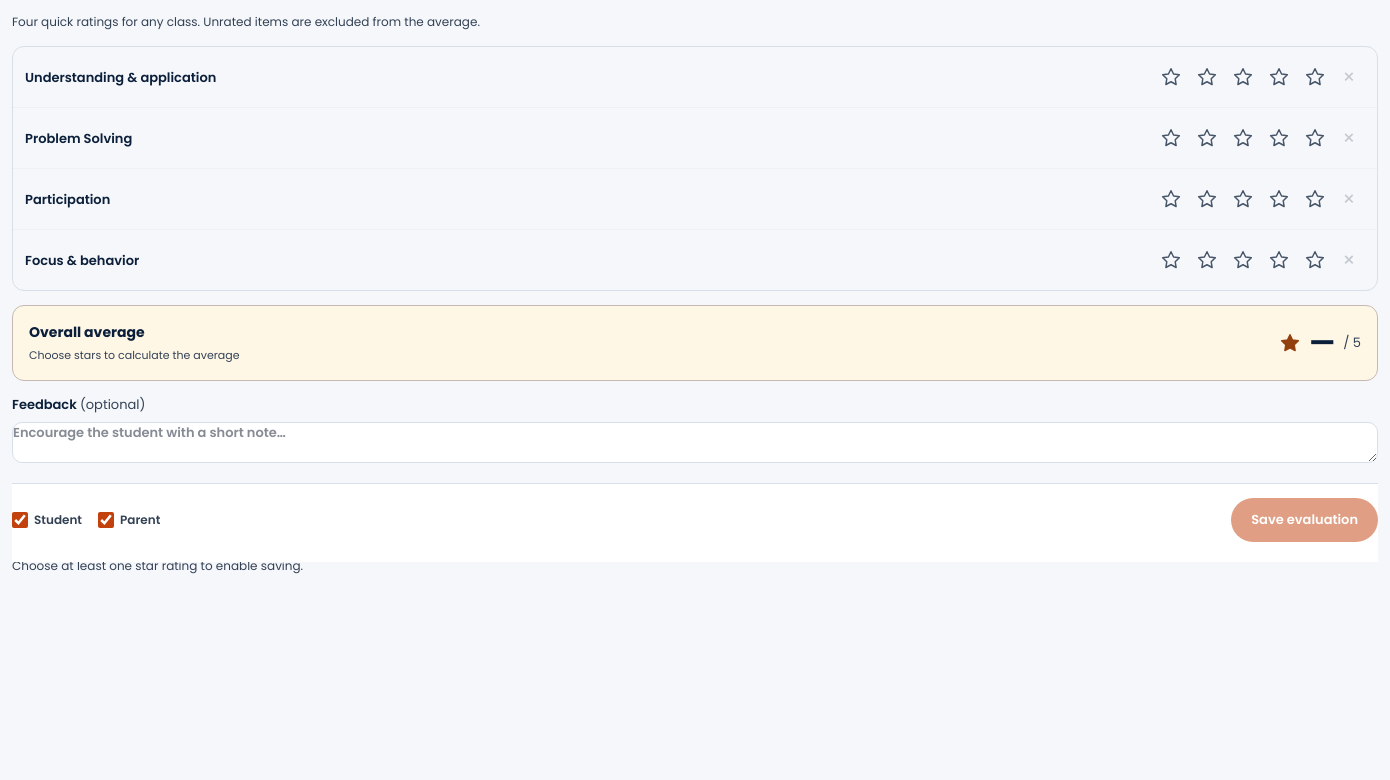
Test case: quick evaluation stars › retains stars and feedback after a save error
Type "Keep building" into the text box labelled "Feedback (optional)" at (695, 443), box [12,422,1378,463]
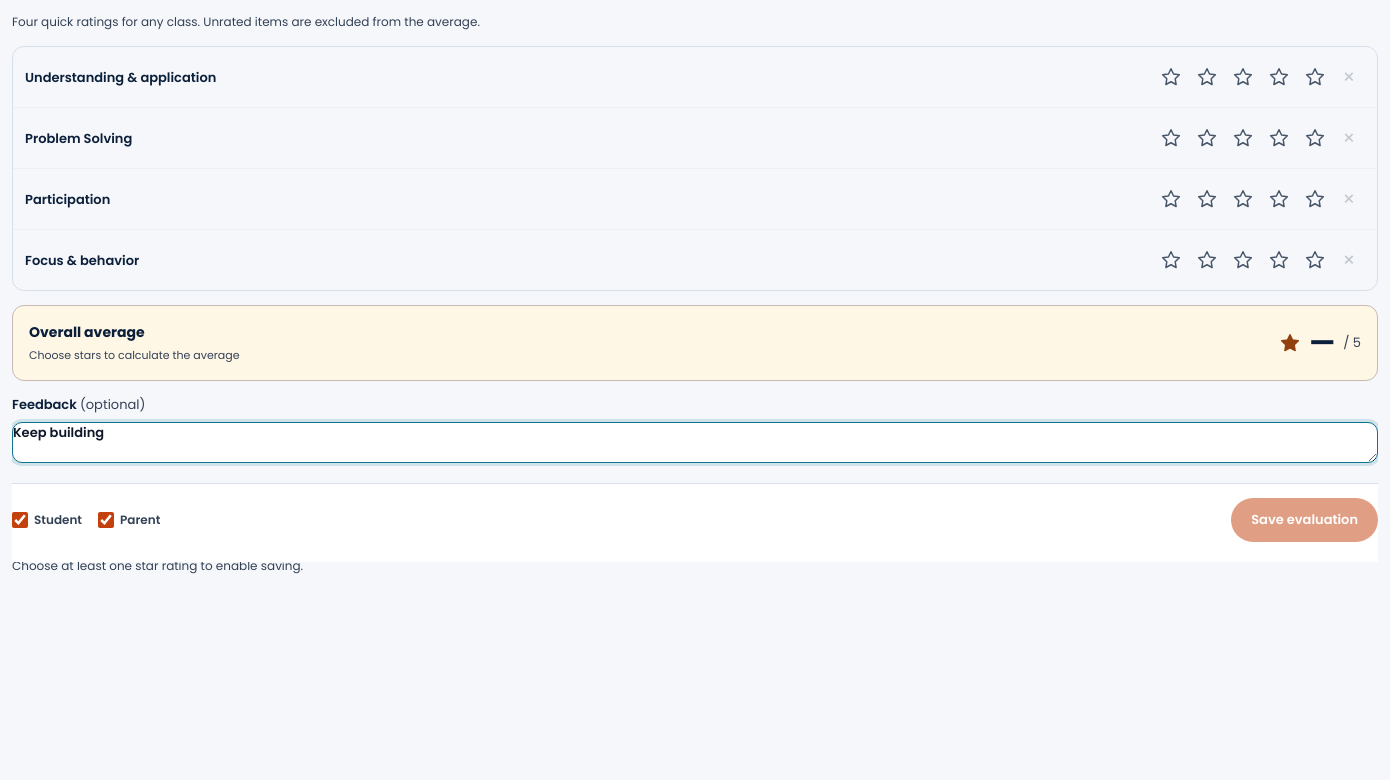
Click the radio button named "Focus & behavior: 5 stars" at (1315, 260), box [1304,249,1326,271]
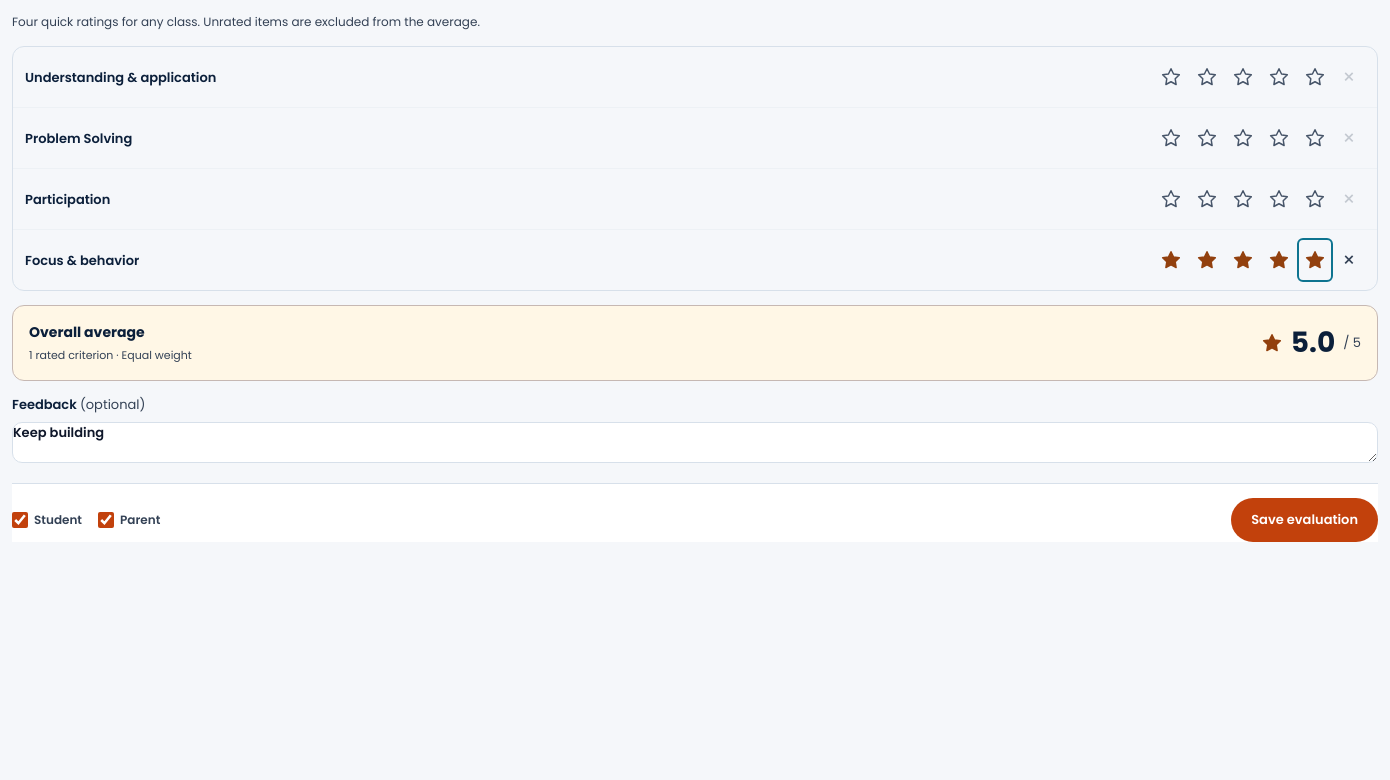
Click the button "Save evaluation" at (1305, 520), box [1231,498,1378,542]
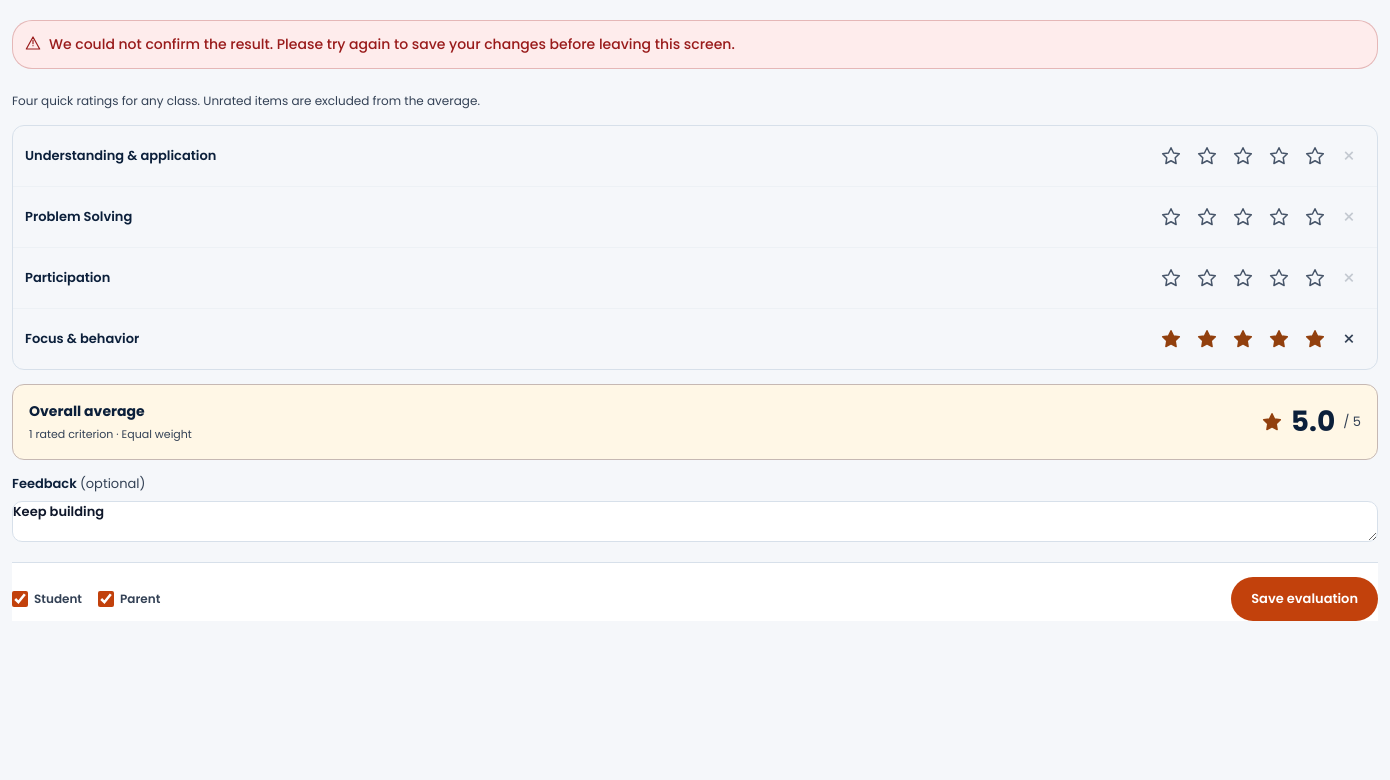
Result: the radio button named "Focus & behavior: 5 stars" is checked at [1304,328,1326,350]
Result: the text named "Overall average" reads "5.0" at [1291,402,1335,441]
Result: the message shows "Please try again" at [49,34,735,54]
